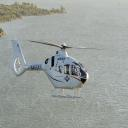helicopter: (7, 32, 102, 105)
